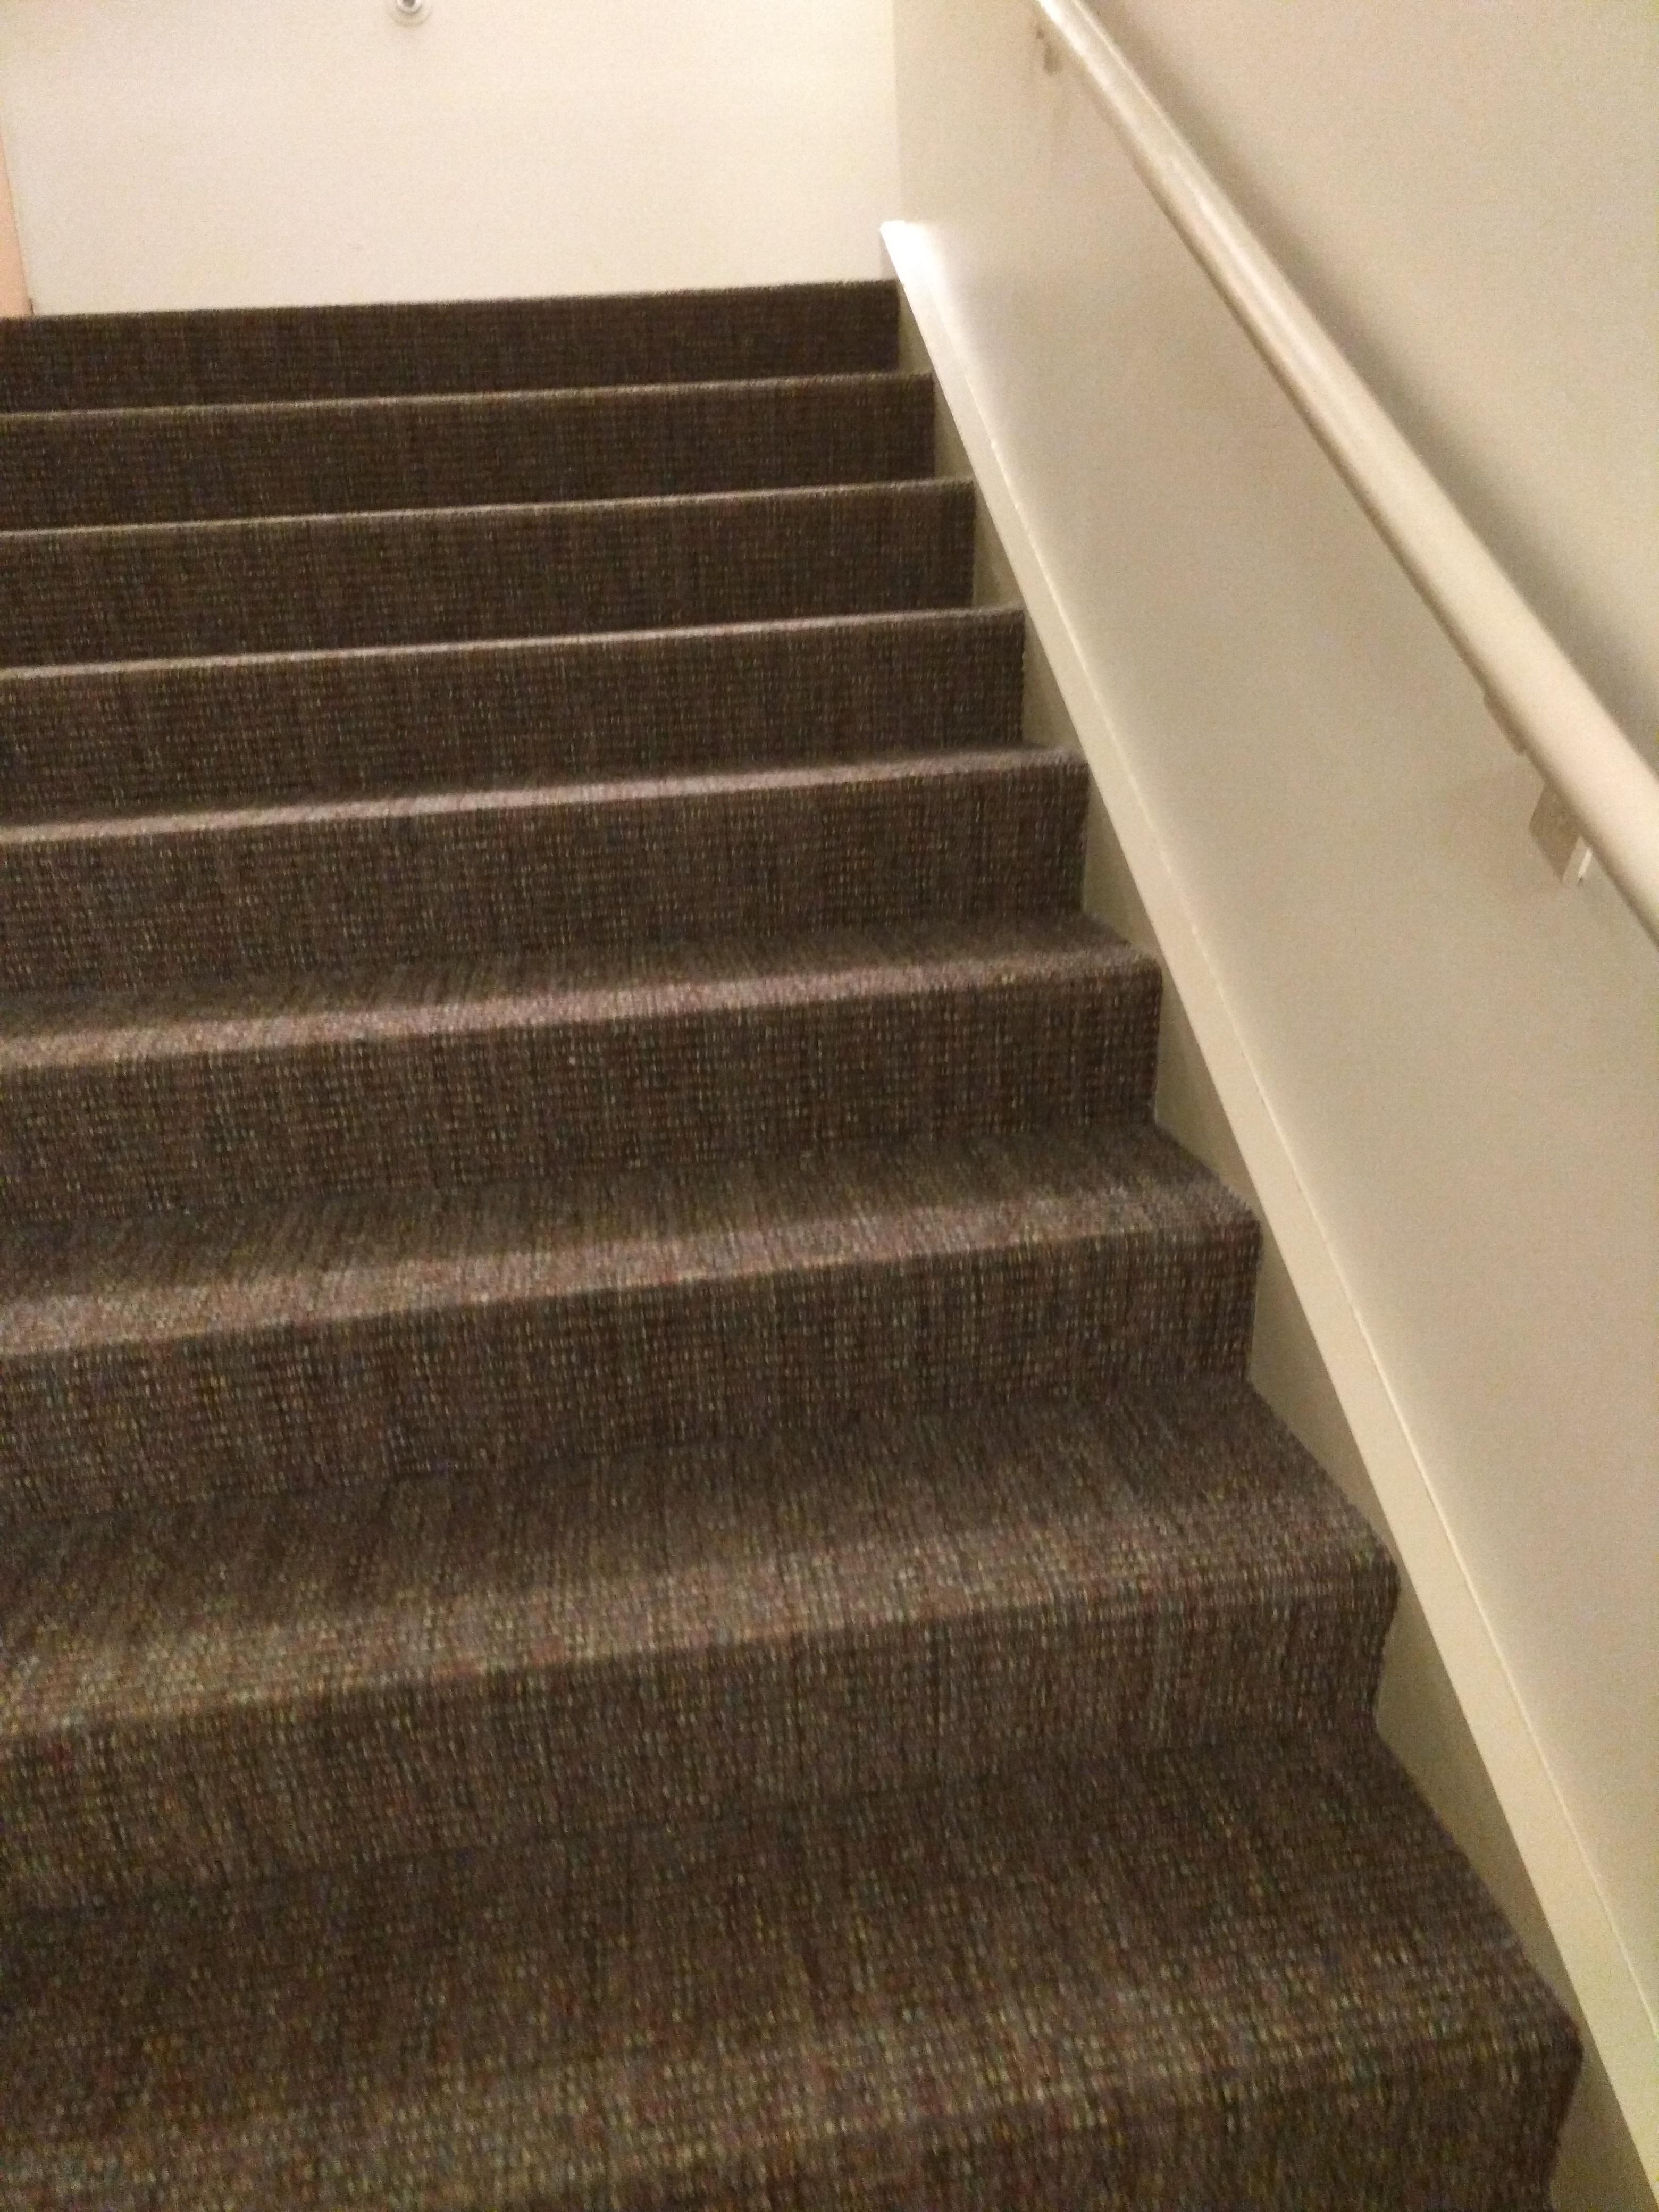stairs_up: (3, 251, 1547, 2212)
